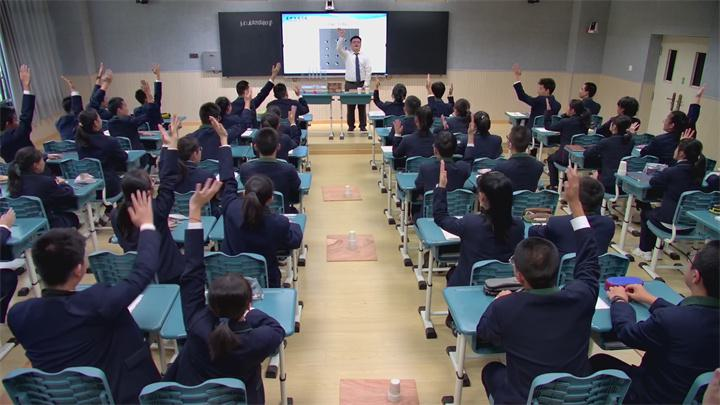hands-up: (10, 192, 162, 359), (479, 163, 601, 359), (185, 173, 282, 384), (210, 124, 286, 253), (436, 158, 512, 258), (464, 112, 538, 186), (1, 58, 42, 147), (651, 128, 699, 202), (576, 115, 638, 164), (506, 66, 559, 119), (232, 59, 286, 110), (660, 84, 704, 140), (60, 71, 115, 114), (123, 66, 166, 119), (371, 75, 404, 114), (417, 75, 440, 127)
listen: (606, 241, 715, 363)
